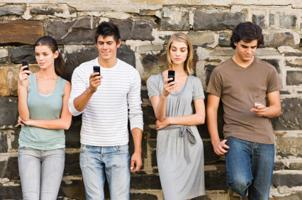person: (68, 23, 143, 200)
